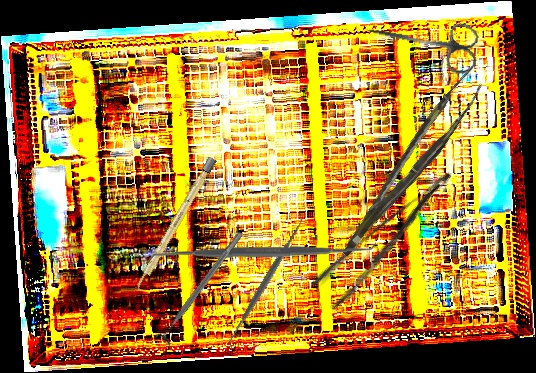Dressing Forceps: (308, 168, 472, 312)
Fixation Ring: (151, 226, 251, 351)
Iris Scissors: (360, 6, 483, 77)
Scalpel Handle: (133, 156, 217, 293)
Spatula Surgical: (218, 212, 313, 353), (145, 237, 377, 268)
Tissue Forceps: (321, 70, 494, 257)
